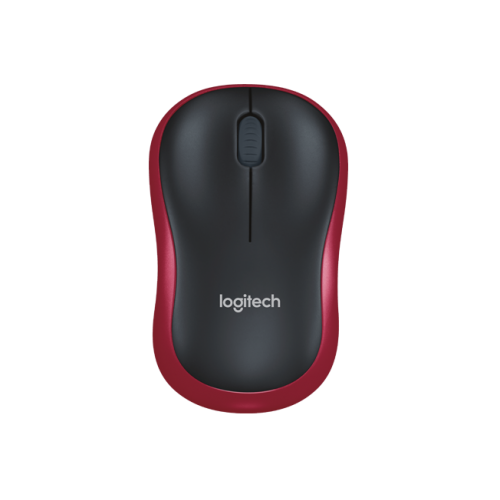logitech-mouse-m185: (147, 86, 351, 411)
